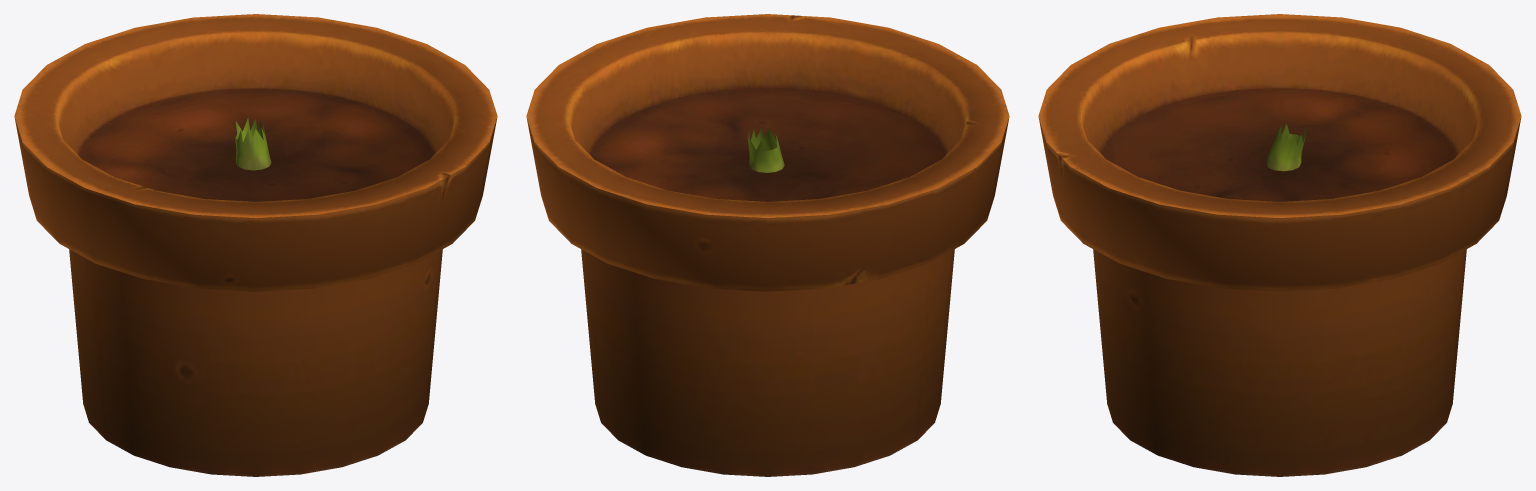
Rendered from icepea_base.obj.
The picture shows the model from 3 angles, left to right: view 1: azimuth 30°, elevation 25°; view 2: azimuth 150°, elevation 25°; view 3: azimuth 270°, elevation 25°; orthographic projection.
Parts seen in each view (by area): view 1: icepea_base; view 2: icepea_base; view 3: icepea_base.
Part boxes in pixels (box(x1,y1,x2,y2)): icepea_base: box(14, 14, 497, 476); icepea_base: box(526, 14, 1009, 476); icepea_base: box(1038, 14, 1521, 476).
Size of the model in its own units: 0.9126 by 0.6065 by 0.9126.
